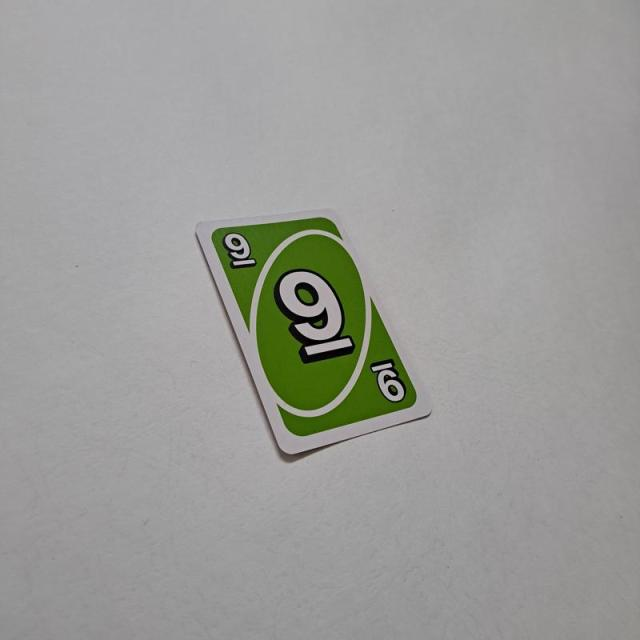Green_Card: (207, 214, 420, 441)
Number_9: (223, 228, 259, 273)
